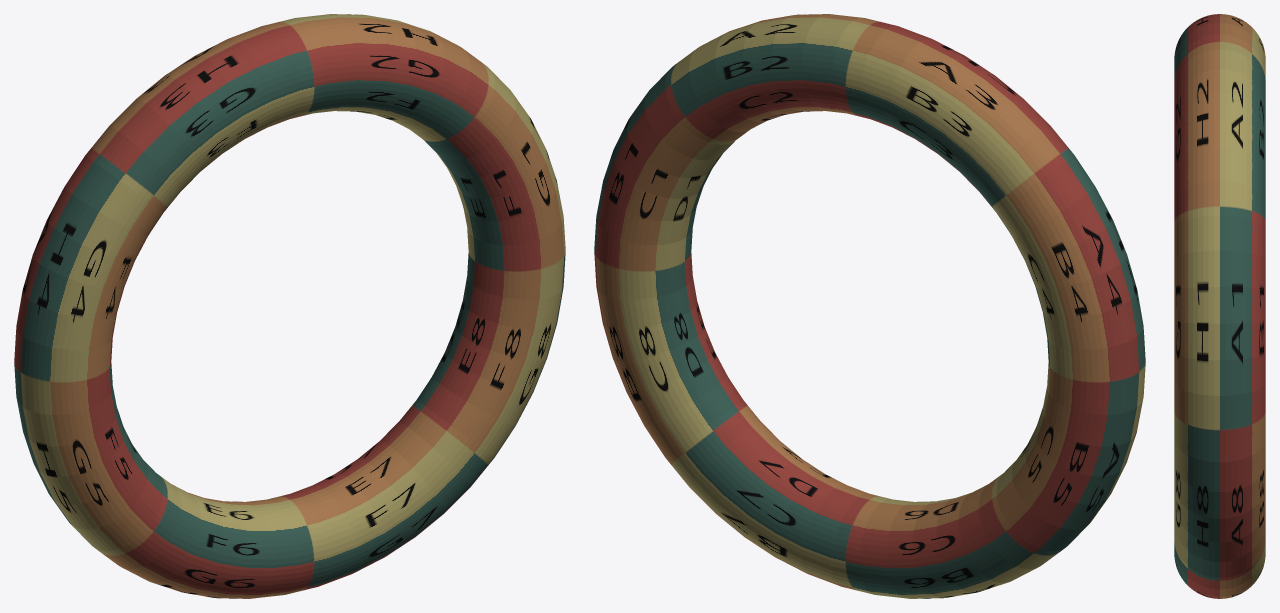
File: texture_torus_R12_r5.glb
The picture shows the model from 3 angles, left to right: view 1: azimuth 30°, elevation 25°; view 2: azimuth 150°, elevation 25°; view 3: azimuth 270°, elevation 25°; orthographic projection. The views are drawn at different scales.
Visible parts, largest first — view 1: world; view 2: world; view 3: world.
Part boxes in pixels (<box>): world: <box>14,14,565,598</box>; world: <box>594,14,1145,598</box>; world: <box>1174,14,1265,598</box>.
Bounding box in the file's own units: 21.33 × 21.29 × 3.33.
1 material, 1 textured.
